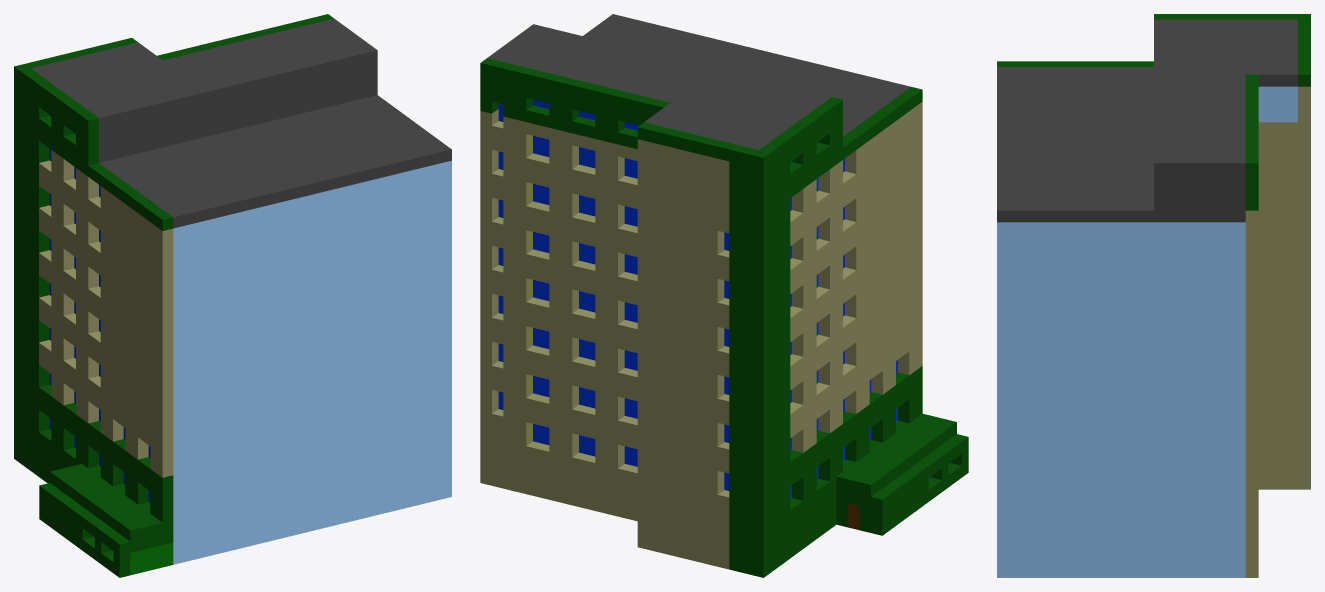
The model's file is house2.glb.
The picture shows the model from 3 angles, left to right: view 1: azimuth 30°, elevation 25°; view 2: azimuth 150°, elevation 25°; view 3: azimuth 270°, elevation 25°; orthographic projection. The views are drawn at different scales.
Parts seen in each view (by area): view 1: Asset3DLoader.sceneRoot; view 2: Asset3DLoader.sceneRoot; view 3: Asset3DLoader.sceneRoot.
Boxes of the visible parts, x1=… form: Asset3DLoader.sceneRoot: x1=14, y1=14, x2=451, y2=577; Asset3DLoader.sceneRoot: x1=480, y1=14, x2=968, y2=577; Asset3DLoader.sceneRoot: x1=997, y1=14, x2=1310, y2=577.
Size of the model in its own units: 3.1 by 3.5 by 2.4.
Materials: 1 (1 with a texture image).
